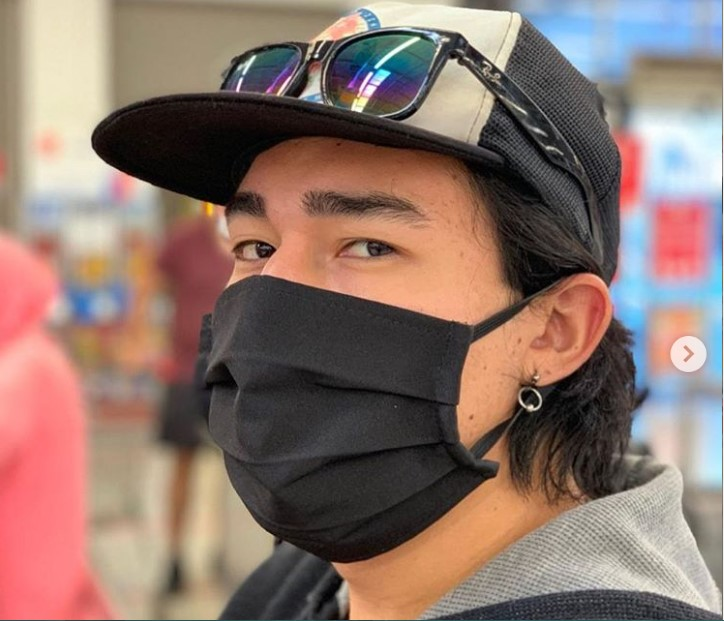face_with_mask: (96, 8, 615, 561)
